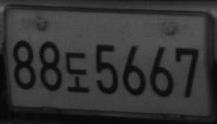5: (94, 43, 119, 94)
6: (149, 46, 174, 98), (122, 45, 147, 96)
7: (174, 47, 200, 97)
8: (12, 38, 37, 90), (38, 40, 63, 92)
도: (65, 50, 89, 93)
